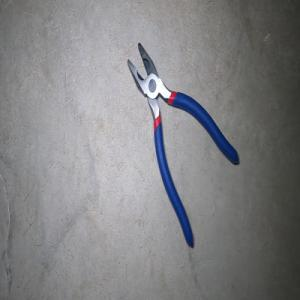Pliers: (127, 42, 239, 248)
